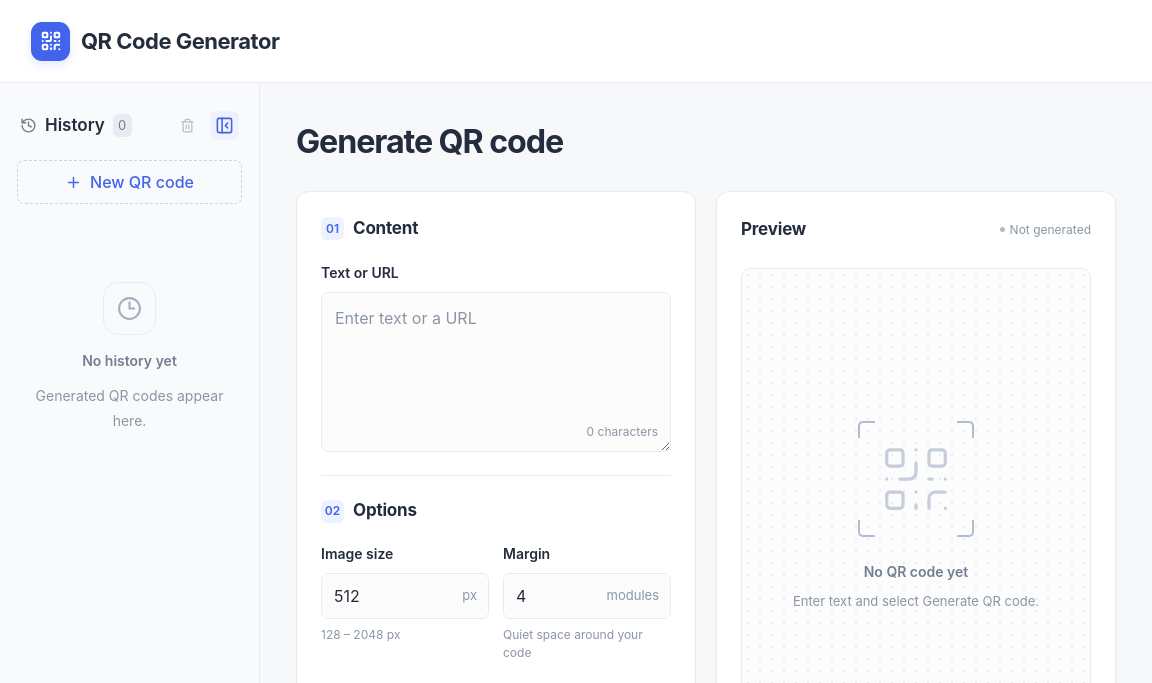
Test: desktop workflow › keeps the history toggle in the sidebar and preserves the draft across collapse
The width and height of the screenshot is (1152, 683).
In the text box labelled "Text or URL": (496, 372) left=321, top=292, right=671, bottom=452, type "Keep my draft"
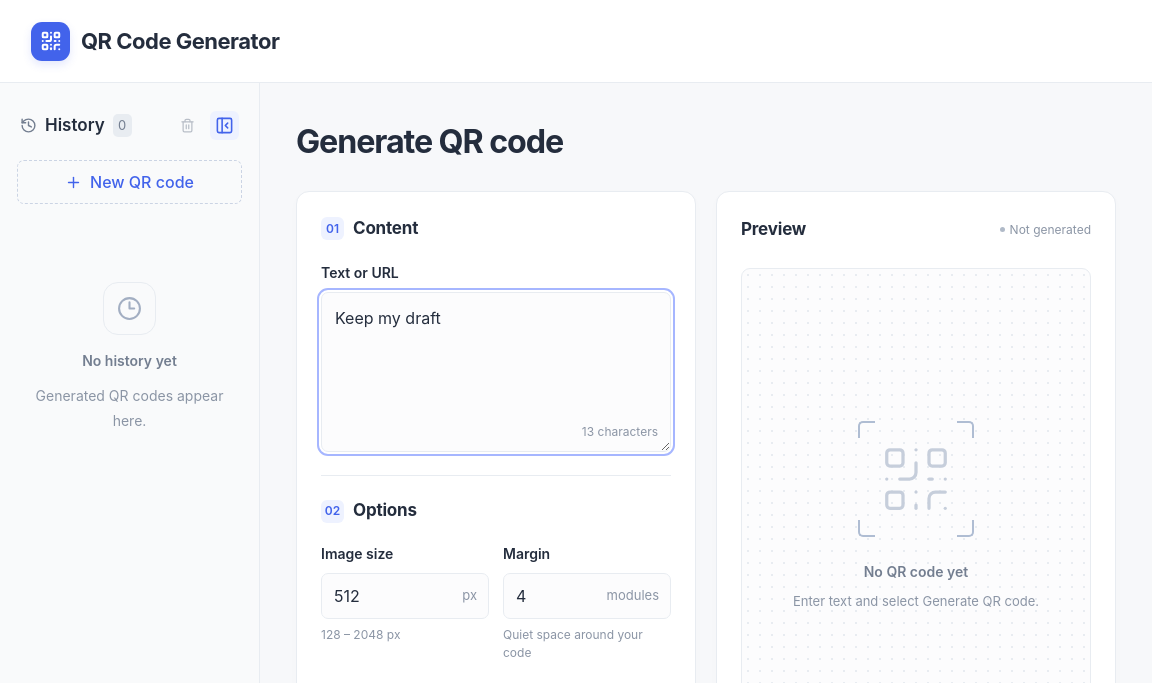
Click the button named "Collapse history": (224, 126) left=210, top=111, right=239, bottom=140
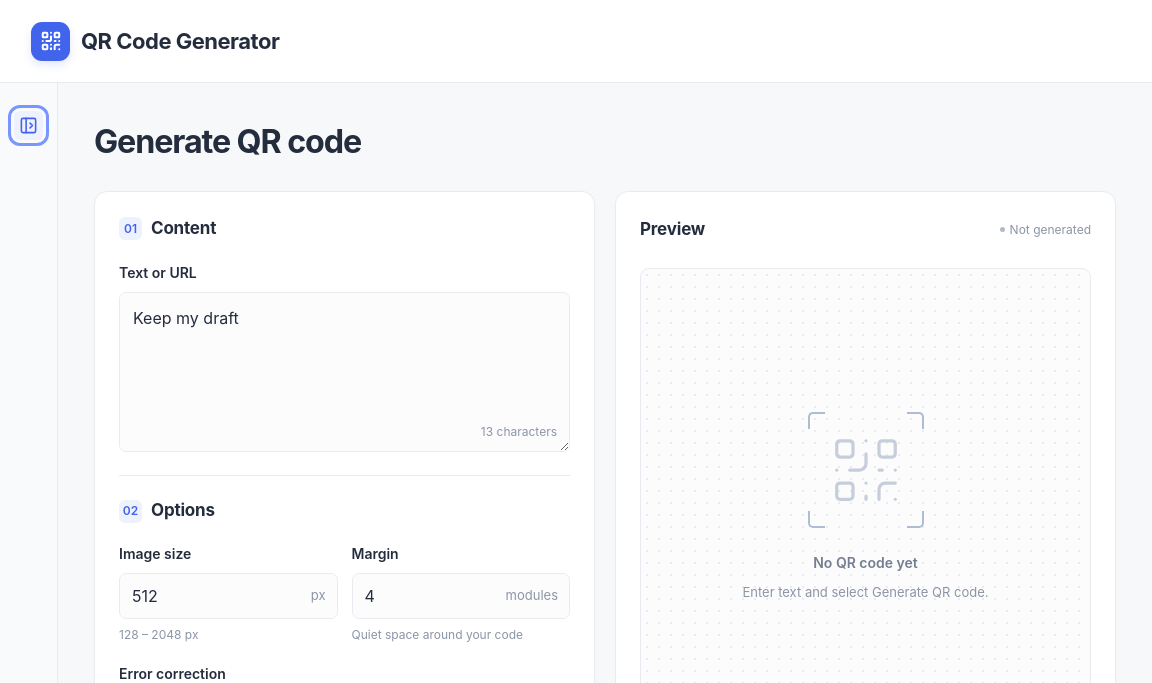
Expected: the button named "Expand history" is collapsed
Expected: the button "New QR code" is gone
Click the button named "Expand history": (28, 126) left=14, top=111, right=43, bottom=140
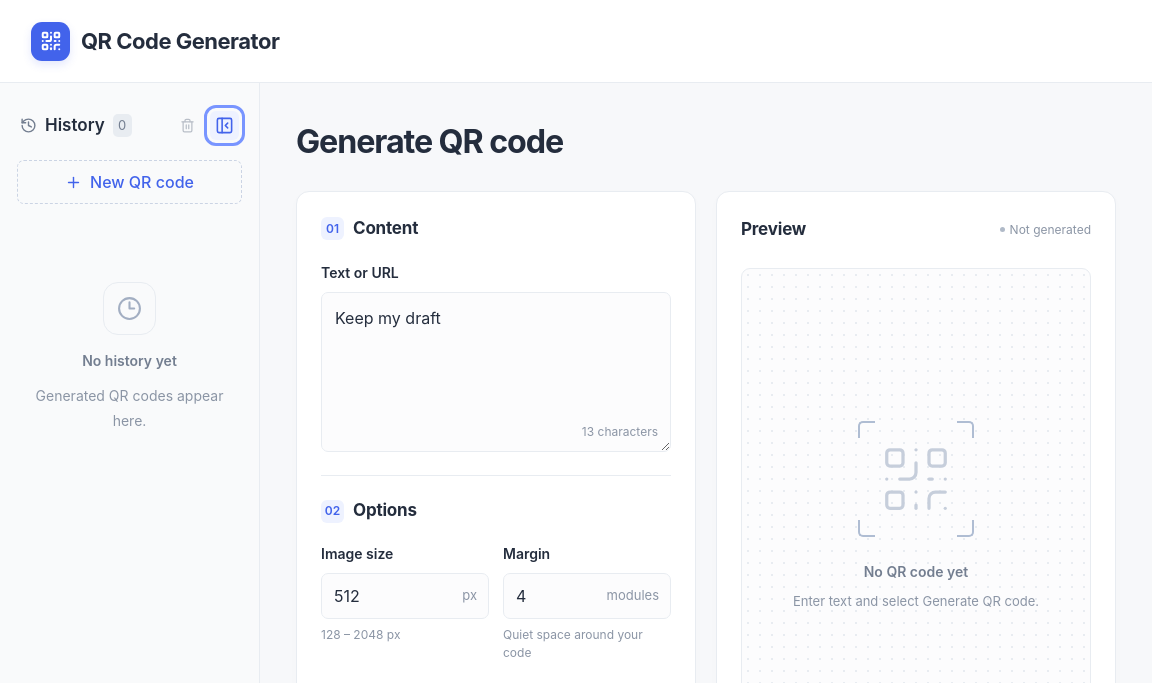
Expected: the button named "Collapse history" is expanded, left=210, top=111, right=239, bottom=140
Expected: the button "New QR code" is shown, left=17, top=160, right=242, bottom=204
